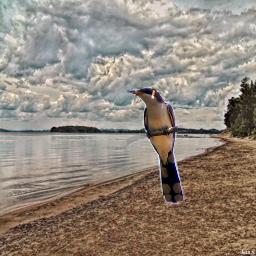Cuckoo: (127, 87, 186, 205)
